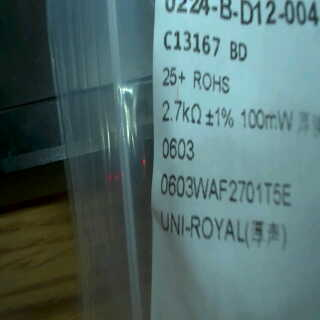2.7kR: (162, 94, 204, 127)
